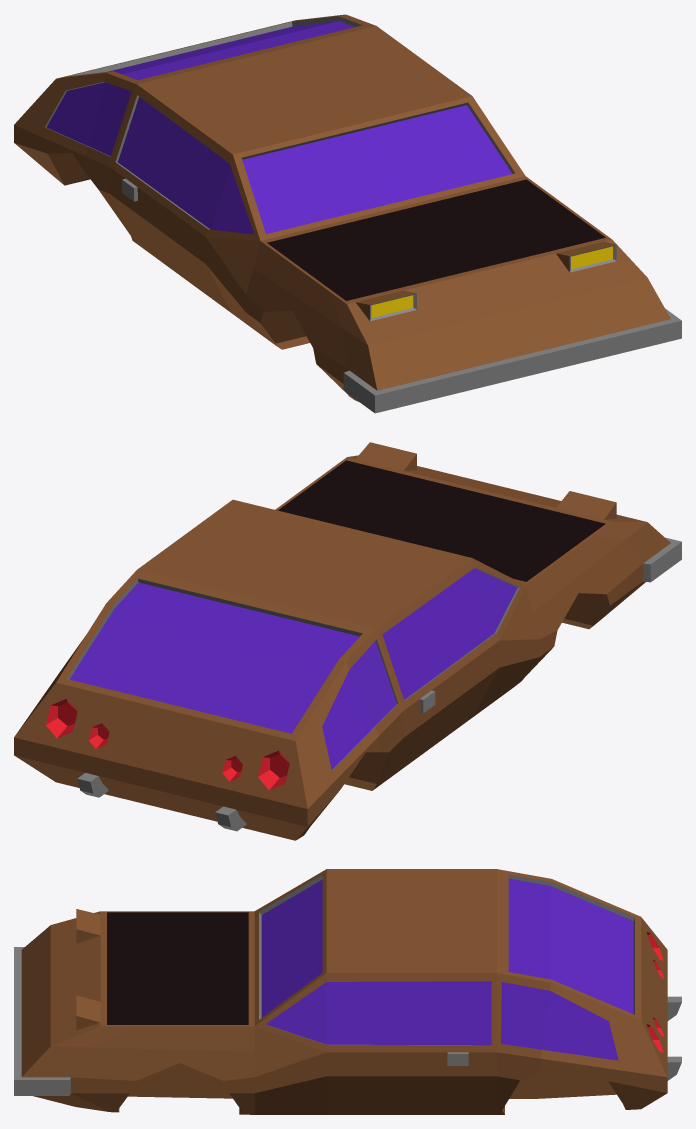
The model's file is JPNCarB.fbx.
3 renders of one model, top to bottom at view 1: azimuth 30°, elevation 25°; view 2: azimuth 150°, elevation 25°; view 3: azimuth 270°, elevation 25°, orthographic. The views are drawn at different scales.
Parts seen in each view (by area): view 1: Cube.003; view 2: Cube.003; view 3: Cube.003.
Part boxes in pixels (x1=…): Cube.003: x1=14, y1=14, x2=681, y2=413; Cube.003: x1=14, y1=442, x2=681, y2=840; Cube.003: x1=14, y1=869, x2=681, y2=1114.
Size of the model in its own units: 200 by 99.33 by 424.
